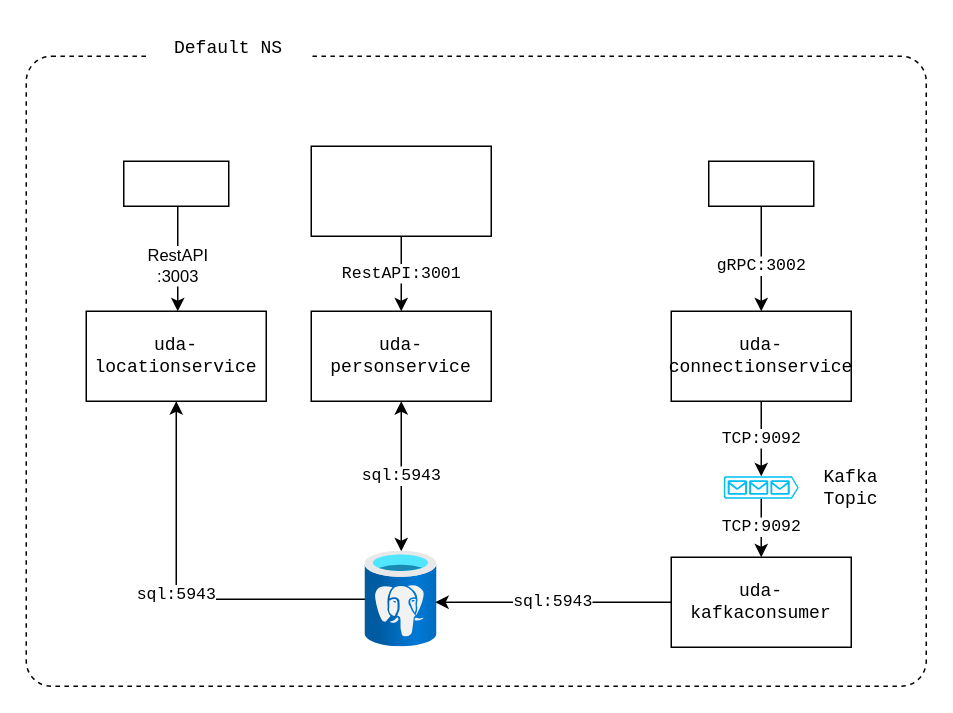
Some shapes in this 953 by 713 pixel diagram are drawn without their labels. The centre of each missing label's shape, as x and y in pixels:
frontend: (x=400, y=190)
gRPC client: (x=760, y=183)
REST Client: (x=175, y=183)
